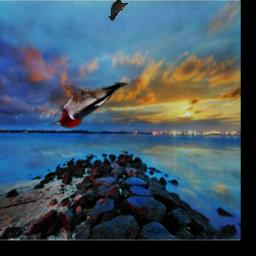Crow: (109, 0, 129, 21)
Woodpecker: (50, 82, 131, 129)
